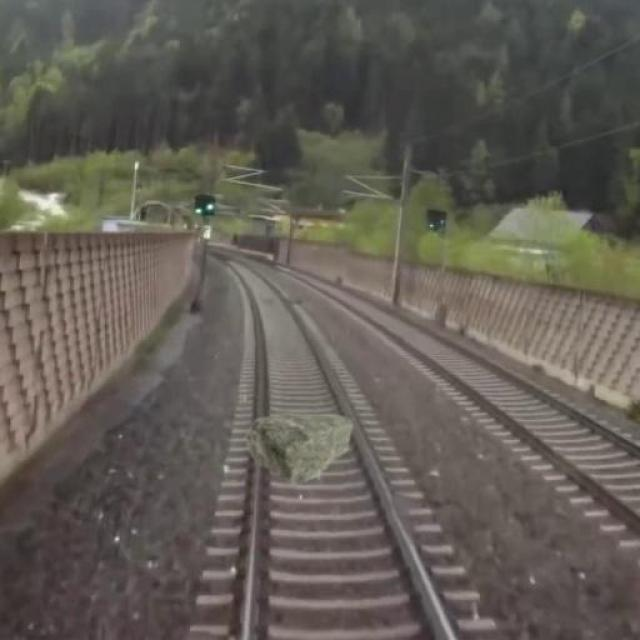Stone: (248, 408, 364, 488)
